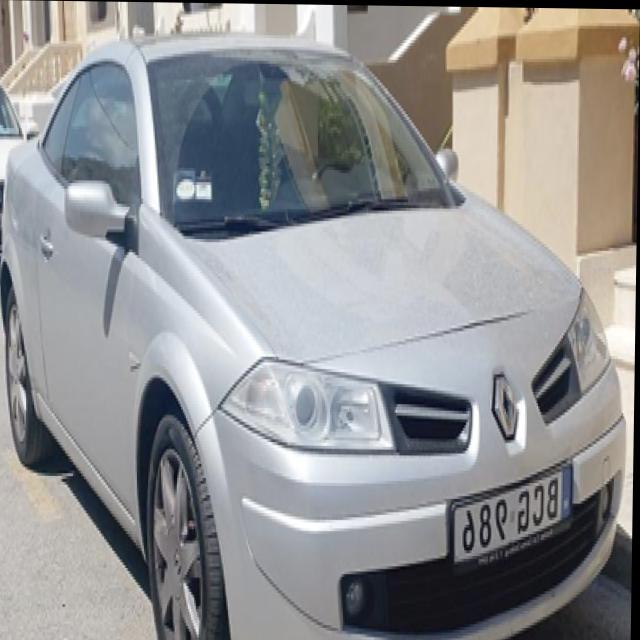licence: (450, 455, 576, 564)
